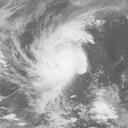cyclone: (36, 26, 88, 76)
